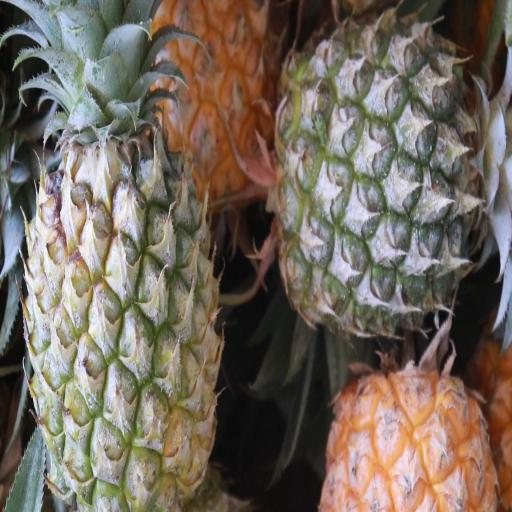Pineapple - v8 v1: (319, 348, 506, 512), (156, 0, 276, 200)
